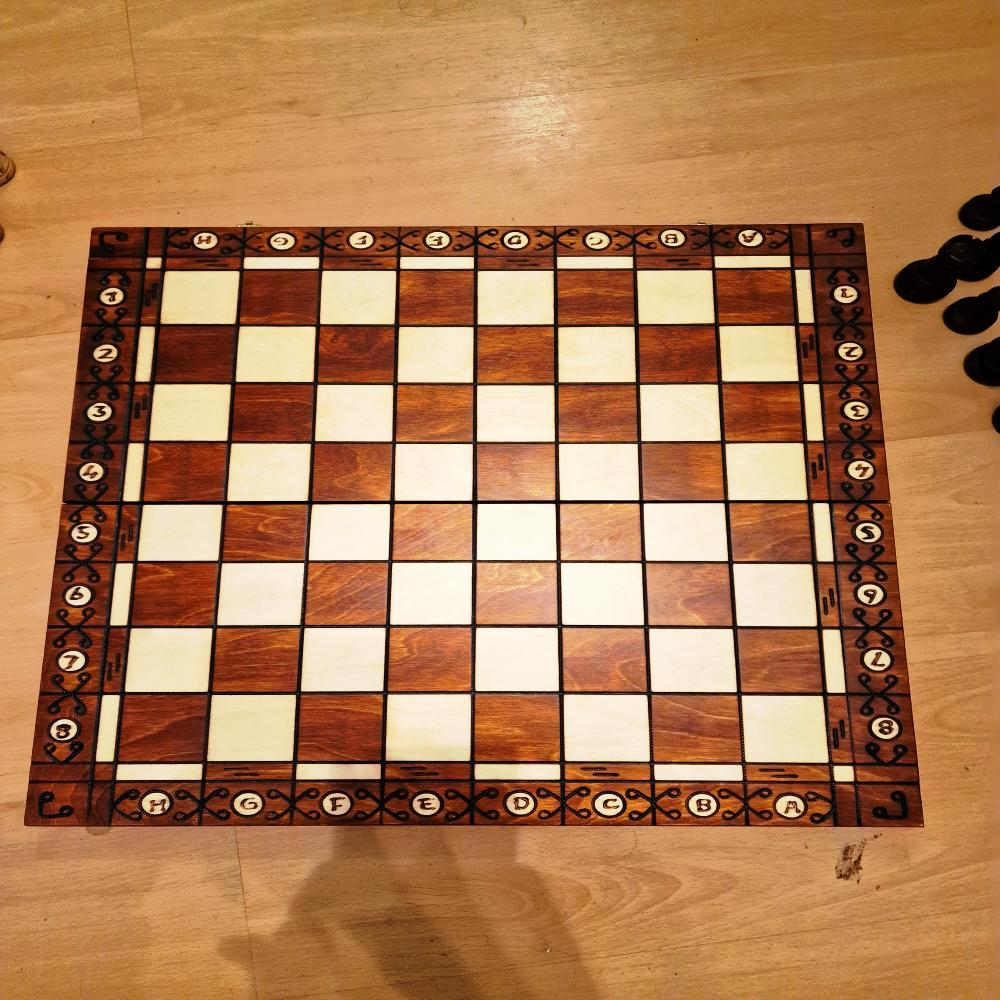chessfield: (122, 693, 212, 764), (211, 693, 300, 764), (648, 694, 739, 762), (561, 693, 648, 764), (472, 693, 559, 764), (386, 694, 474, 764), (297, 694, 384, 764), (740, 695, 825, 765), (221, 562, 307, 630), (643, 563, 730, 630), (736, 629, 823, 696), (215, 629, 304, 694), (646, 629, 733, 695), (560, 628, 647, 694), (132, 563, 219, 629), (302, 627, 386, 695), (127, 629, 213, 694), (387, 628, 473, 693), (391, 562, 475, 628), (306, 562, 390, 628), (560, 563, 644, 629), (473, 628, 557, 694), (477, 560, 561, 626), (733, 562, 816, 626), (229, 440, 313, 501), (144, 441, 228, 502), (139, 505, 224, 564), (641, 505, 726, 564), (225, 505, 310, 564), (558, 441, 641, 501), (729, 504, 812, 564), (726, 442, 808, 502), (477, 442, 559, 502), (639, 441, 722, 500), (638, 383, 720, 442), (475, 502, 557, 561), (233, 383, 316, 441), (394, 441, 474, 501), (309, 505, 390, 564), (150, 383, 231, 442), (154, 325, 236, 383), (560, 505, 642, 563), (310, 442, 392, 500), (396, 383, 476, 442), (474, 383, 554, 442), (474, 325, 554, 384), (719, 325, 800, 383), (313, 384, 394, 442), (393, 505, 474, 563), (557, 383, 639, 440), (237, 325, 317, 383), (637, 325, 717, 383), (317, 325, 395, 384), (723, 383, 804, 439), (715, 269, 797, 324), (557, 269, 636, 326), (240, 269, 321, 324), (559, 326, 637, 383), (635, 268, 714, 324), (399, 326, 476, 383), (399, 270, 477, 326), (476, 270, 554, 325), (164, 270, 243, 324), (320, 270, 396, 325)
